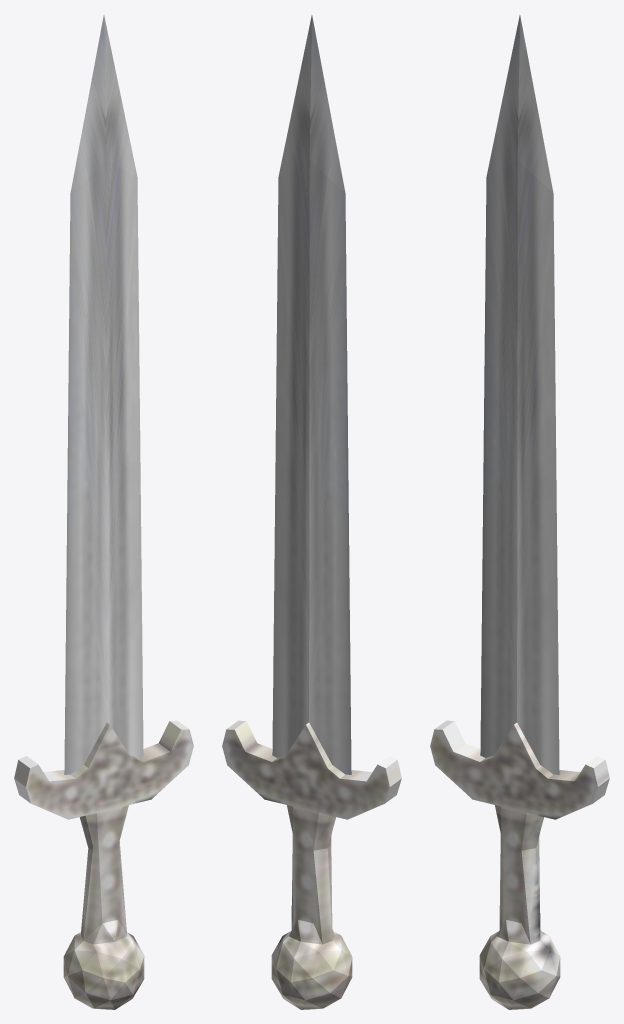
Rendered from sword198_wtf.obj.
3 renders of one model, left to right at view 1: azimuth 30°, elevation 25°; view 2: azimuth 150°, elevation 25°; view 3: azimuth 330°, elevation 25°, orthographic.
Parts seen in each view (by area): view 1: group2; view 2: group2; view 3: group2.
Boxes of the visible parts, box(x1,y1,x2,y2) form: group2: box(14, 15, 193, 1009); group2: box(222, 15, 401, 1009); group2: box(430, 15, 609, 1009).
Size of the model in its own units: 117 by 660 by 50.67.
